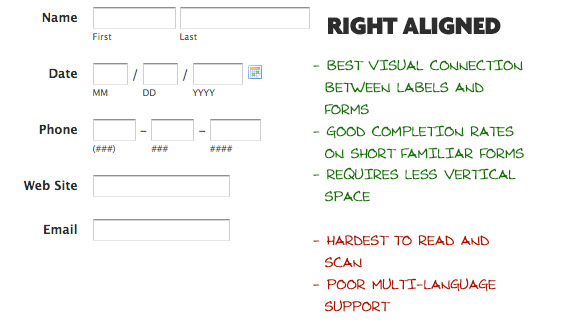_form_: (1, 1, 322, 247)
field: (92, 174, 231, 199), (89, 217, 231, 241), (180, 6, 312, 30), (92, 6, 178, 30), (193, 62, 244, 87), (209, 118, 261, 142), (149, 117, 194, 143), (93, 118, 136, 143), (91, 62, 131, 85), (143, 63, 180, 86)
field_with_label: (23, 172, 232, 201), (44, 215, 233, 243), (178, 5, 313, 42), (41, 5, 177, 31), (91, 4, 176, 41), (40, 116, 138, 145), (50, 60, 132, 86), (190, 61, 247, 96), (207, 117, 263, 152), (146, 116, 196, 153), (89, 116, 139, 152), (89, 60, 131, 97), (140, 61, 182, 97)
